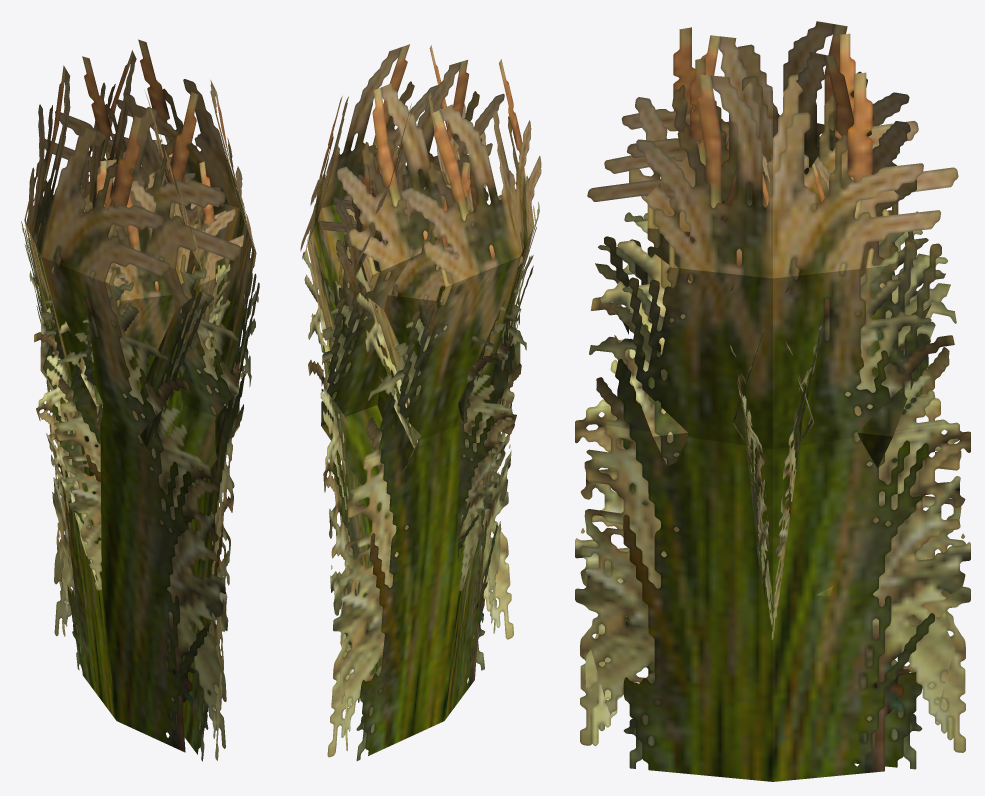
The model's file is Cat Tail.fbx.
The picture shows the model from 3 angles, left to right: view 1: azimuth 30°, elevation 25°; view 2: azimuth 150°, elevation 25°; view 3: azimuth 270°, elevation 25°; orthographic projection. The views are drawn at different scales.
Parts seen in each view (by area): view 1: Cat Tail 1, Cat Tail 2; view 2: Cat Tail 1, Cat Tail 2; view 3: Cat Tail 1, Cat Tail 2.
Boxes of the visible parts, left/top/right/bottom form: Cat Tail 1: left=21, top=54, right=259, bottom=754; Cat Tail 2: left=22, top=39, right=258, bottom=761; Cat Tail 1: left=300, top=47, right=541, bottom=755; Cat Tail 2: left=302, top=44, right=539, bottom=760; Cat Tail 1: left=587, top=21, right=958, bottom=781; Cat Tail 2: left=575, top=24, right=970, bottom=772.
Size of the model in its own units: 0.4956 by 1.48 by 0.7317.
2 materials, 2 textured.
